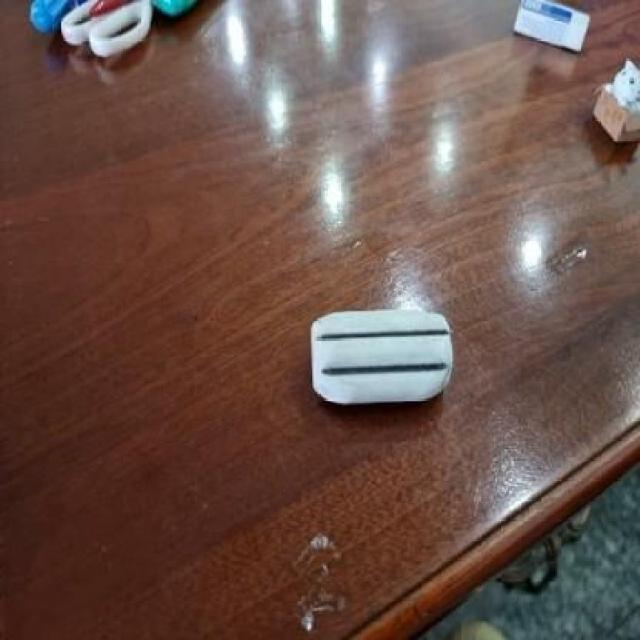not trash: (265, 273, 470, 424), (12, 0, 205, 63), (572, 61, 640, 157), (487, 0, 600, 52)
